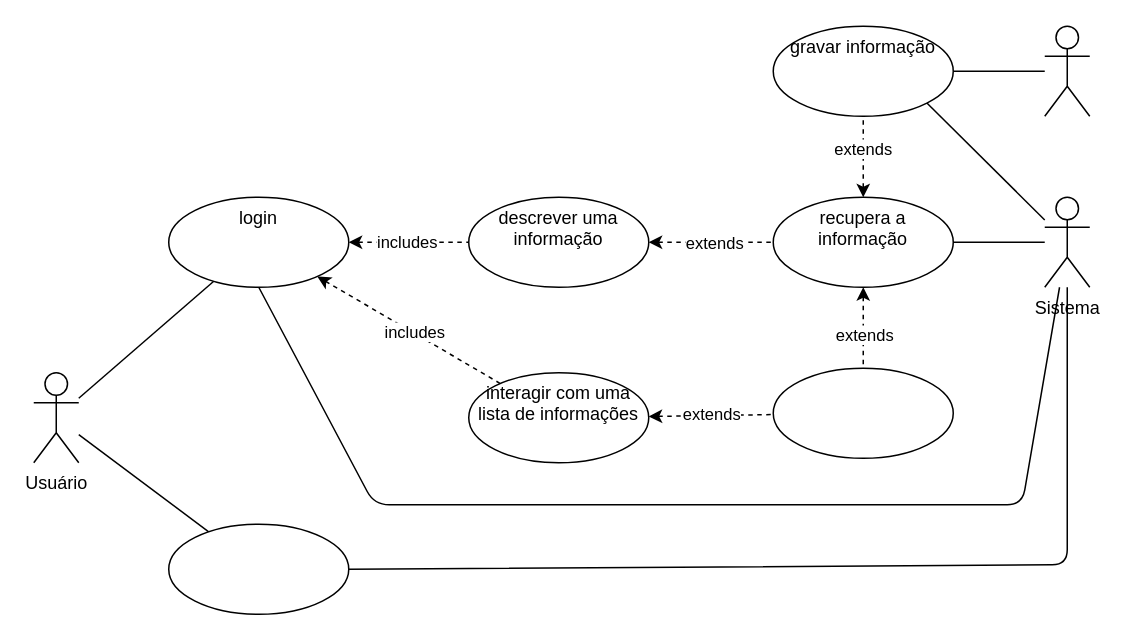
This 1136x641 diagram has some shape labels left out. Each missing label, with the centre of its shape:
"Data Base" goes at point (1066, 70).
"gerar listas de informações" goes at point (862, 412).
"logout" goes at point (258, 568).
